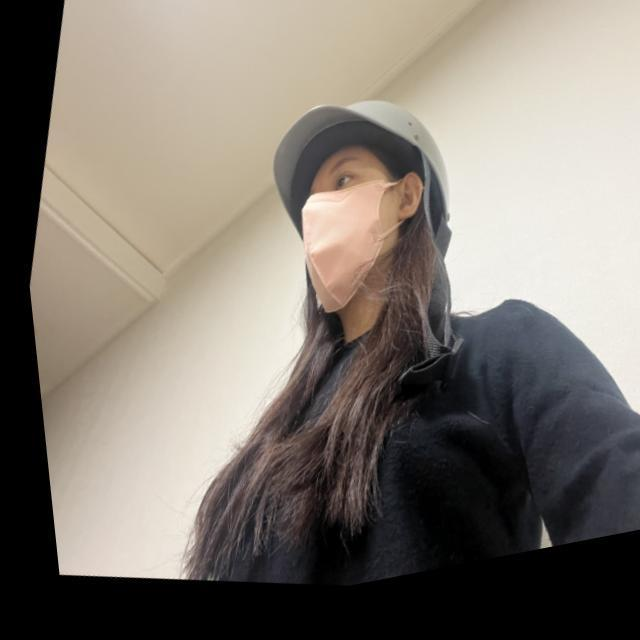Helmet: (263, 80, 463, 319)
